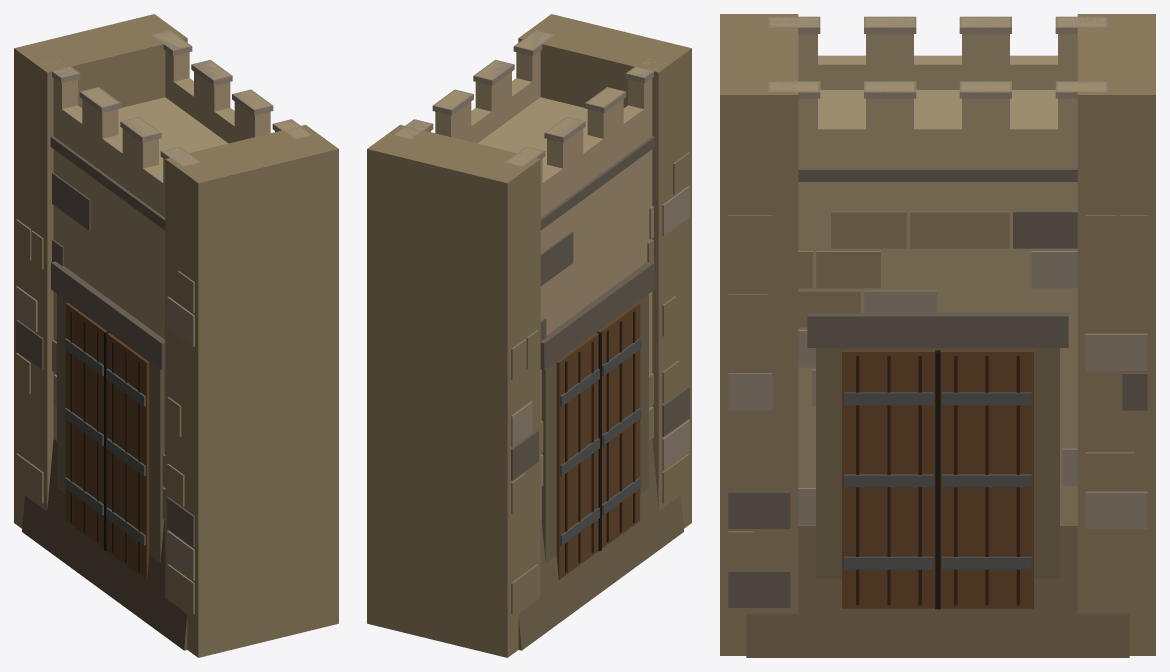
Rendered from fort_masonry_inner.glb.
The picture shows the model from 3 angles, left to right: view 1: azimuth 30°, elevation 25°; view 2: azimuth 150°, elevation 25°; view 3: azimuth 270°, elevation 25°; orthographic projection. The views are drawn at different scales.
Visible parts, largest first — view 1: fort_masonry_inner; view 2: fort_masonry_inner; view 3: fort_masonry_inner.
Boxes of the visible parts, x1,y1,x2,y2 form: fort_masonry_inner: (14,14,338,657); fort_masonry_inner: (367,14,691,657); fort_masonry_inner: (720,14,1155,657).
Size of the model in its own units: 4.6 by 14.2 by 10.
